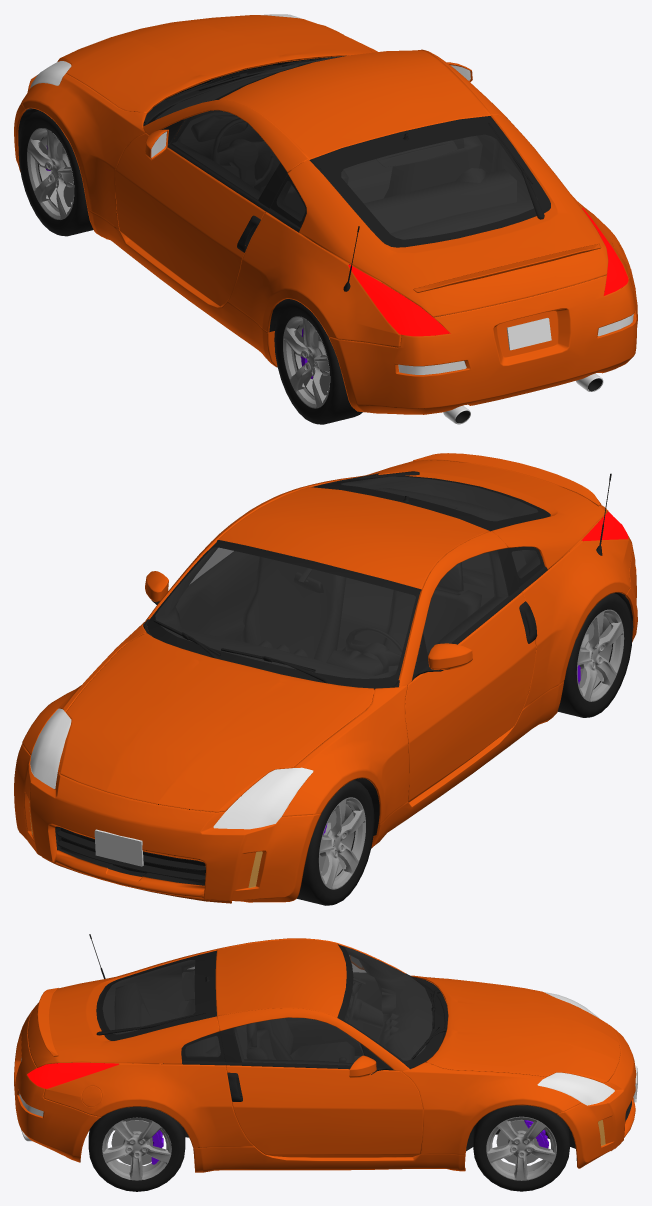
The model's file is Nissan 350Z.fbx.
The picture shows the model from 3 angles, top to bottom: view 1: azimuth 30°, elevation 25°; view 2: azimuth 150°, elevation 25°; view 3: azimuth 270°, elevation 25°; orthographic projection. The views are drawn at different scales.
Parts seen in each view (by area): view 1: Nissan 350Z, Rear Wheels RR, Front Left Wheel; view 2: Nissan 350Z, Front Left Wheel, Rear Wheels RR; view 3: Nissan 350Z, Front Right Wheel, Rear Wheels RL.
Part boxes in pixels (<box>): Nissan 350Z: <box>14,14,637,424</box>; Rear Wheels RR: <box>274,299,362,424</box>; Front Left Wheel: <box>18,110,93,236</box>; Nissan 350Z: <box>14,453,637,903</box>; Front Left Wheel: <box>297,780,374,905</box>; Rear Wheels RR: <box>557,593,632,717</box>; Nissan 350Z: <box>14,934,637,1172</box>; Front Right Wheel: <box>473,1105,569,1191</box>; Rear Wheels RL: <box>88,1106,185,1191</box>.
Size of the model in its own units: 84.1 by 56.87 by 188.
